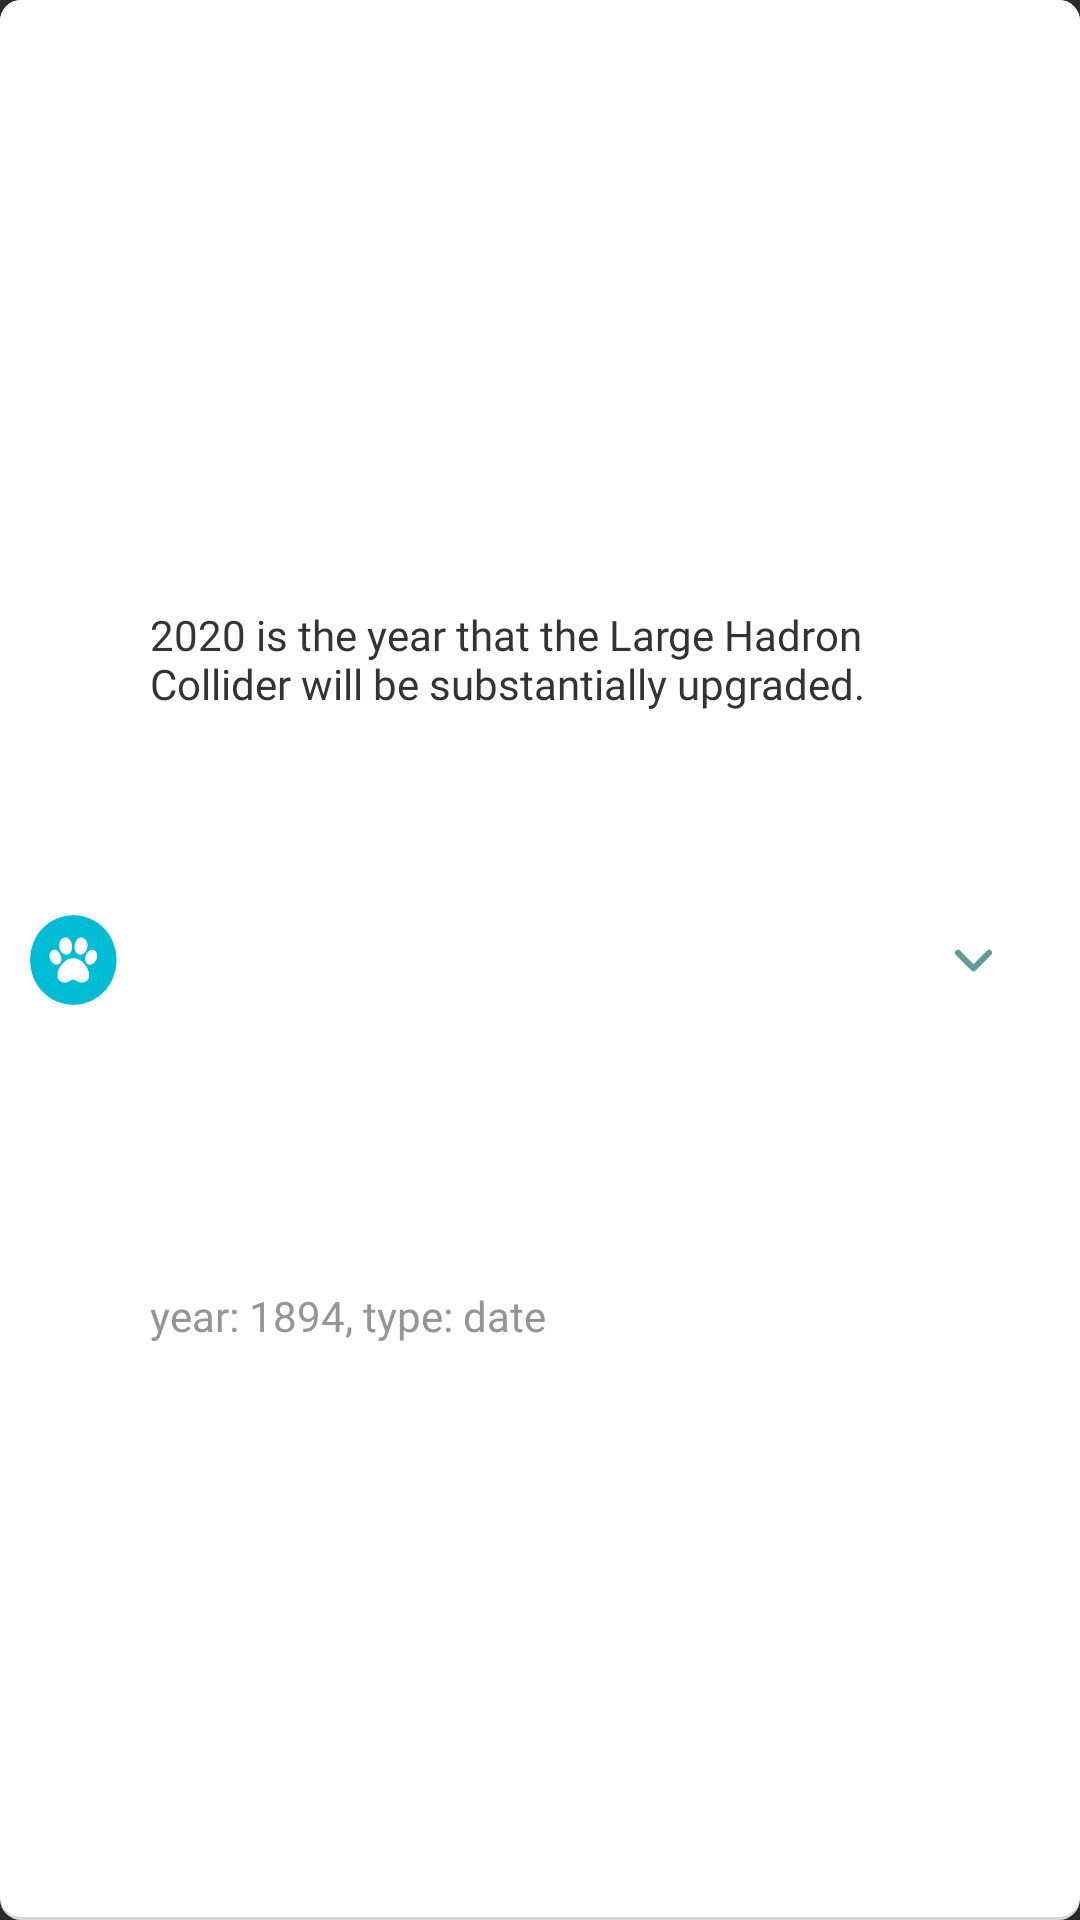

Locate icon controls on the screen. Image size 1080×1920, boxes as [x1, y1, x2, y2].
arrow: [955, 949, 992, 972]
